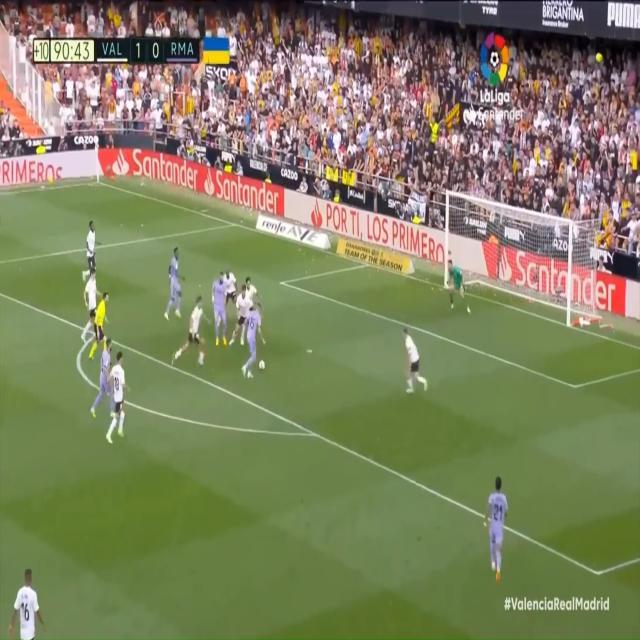ball: (258, 358, 268, 374)
goalkeeper: (447, 258, 472, 319)
player: (172, 295, 209, 370), (14, 559, 46, 640), (487, 476, 509, 581), (398, 325, 429, 395), (105, 352, 125, 451), (163, 242, 186, 324), (242, 298, 262, 383), (228, 283, 252, 352), (81, 263, 99, 348), (211, 268, 229, 350), (231, 282, 251, 346), (82, 218, 99, 284), (221, 262, 239, 319), (244, 271, 259, 318)
referee: (87, 288, 118, 369)
